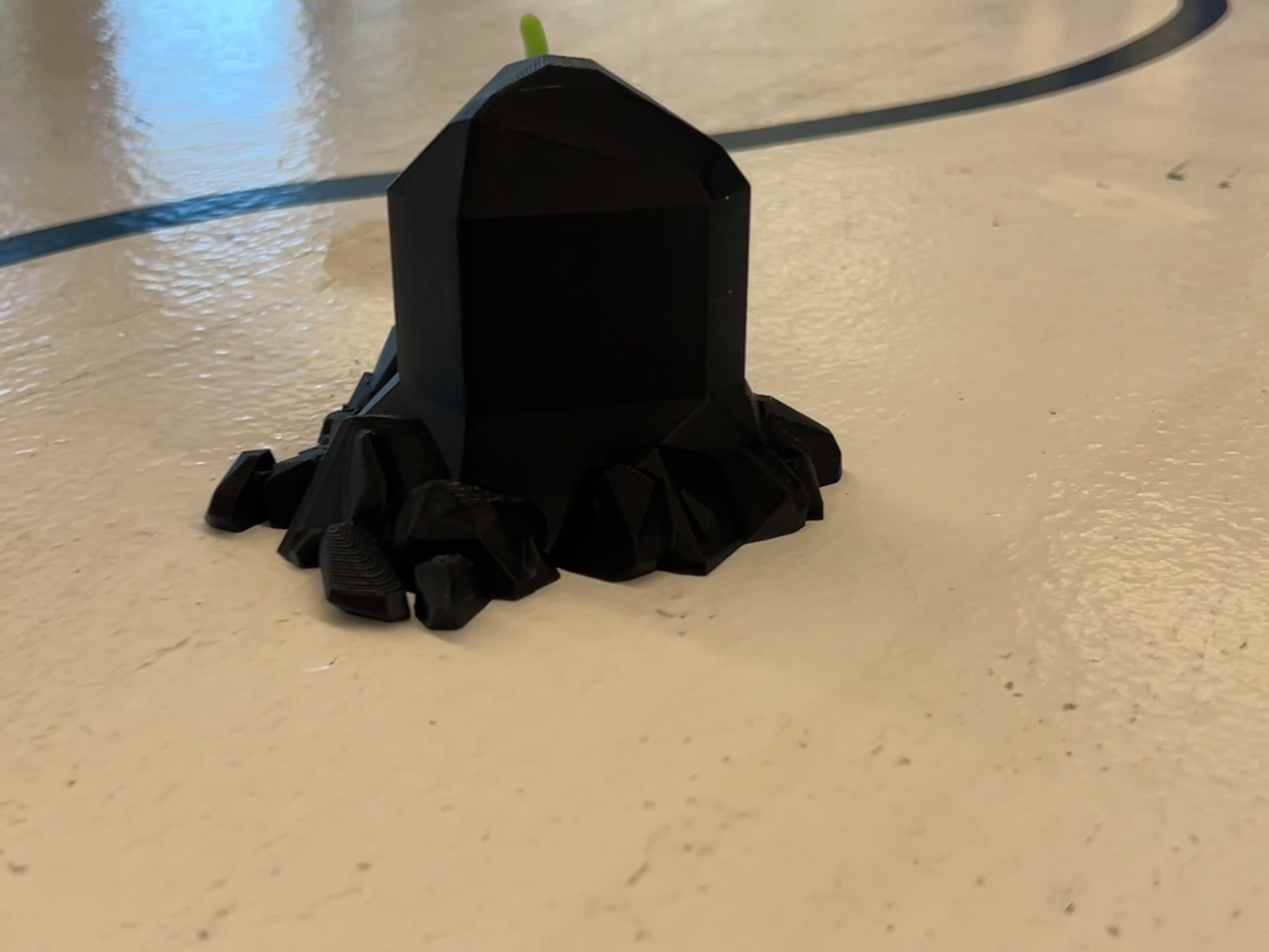teletubby: (519, 14, 549, 58)
